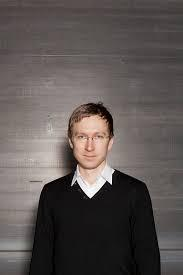Persons: (60, 99, 123, 178)
